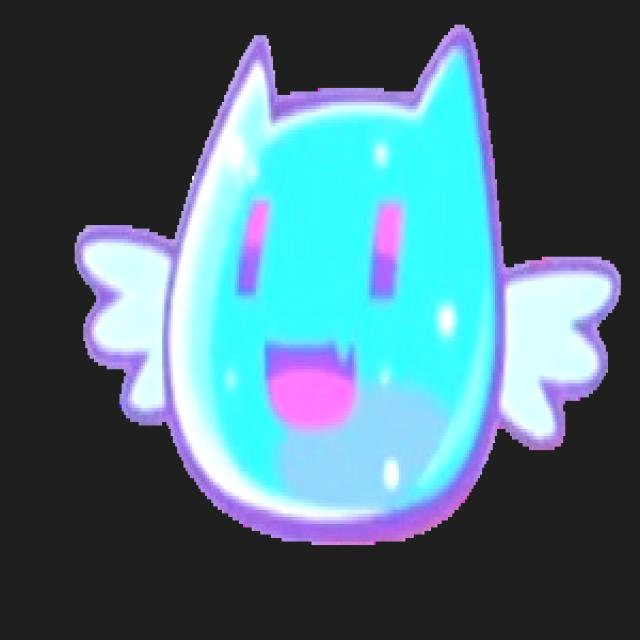mao: (72, 21, 620, 549)
